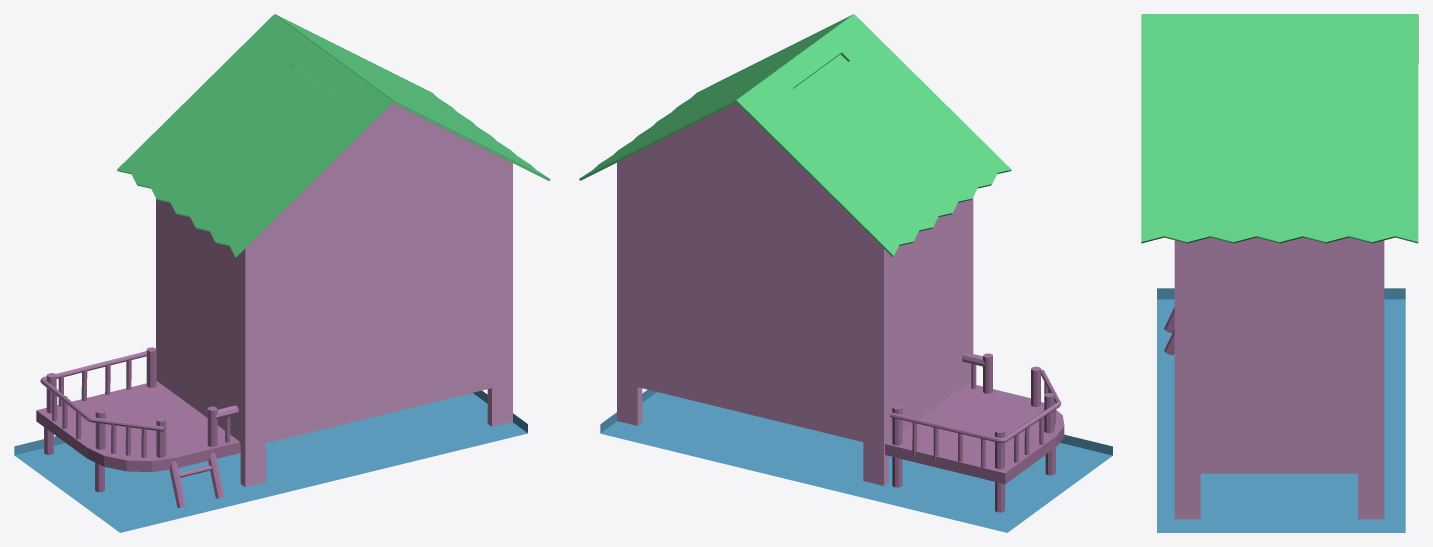
3 views of the same model, side by side, from view 1: azimuth 30°, elevation 25°; view 2: azimuth 150°, elevation 25°; view 3: azimuth 270°, elevation 25° (orthographic). The views are drawn at different scales.
Visible parts, largest first — view 1: world; view 2: world; view 3: world.
Part boxes in pixels (x1=…): world: x1=14, y1=14, x2=550, y2=532; world: x1=579, y1=14, x2=1112, y2=532; world: x1=1141, y1=14, x2=1418, y2=532.
Size of the model in its own units: 1 by 0.8404 by 0.4831.
